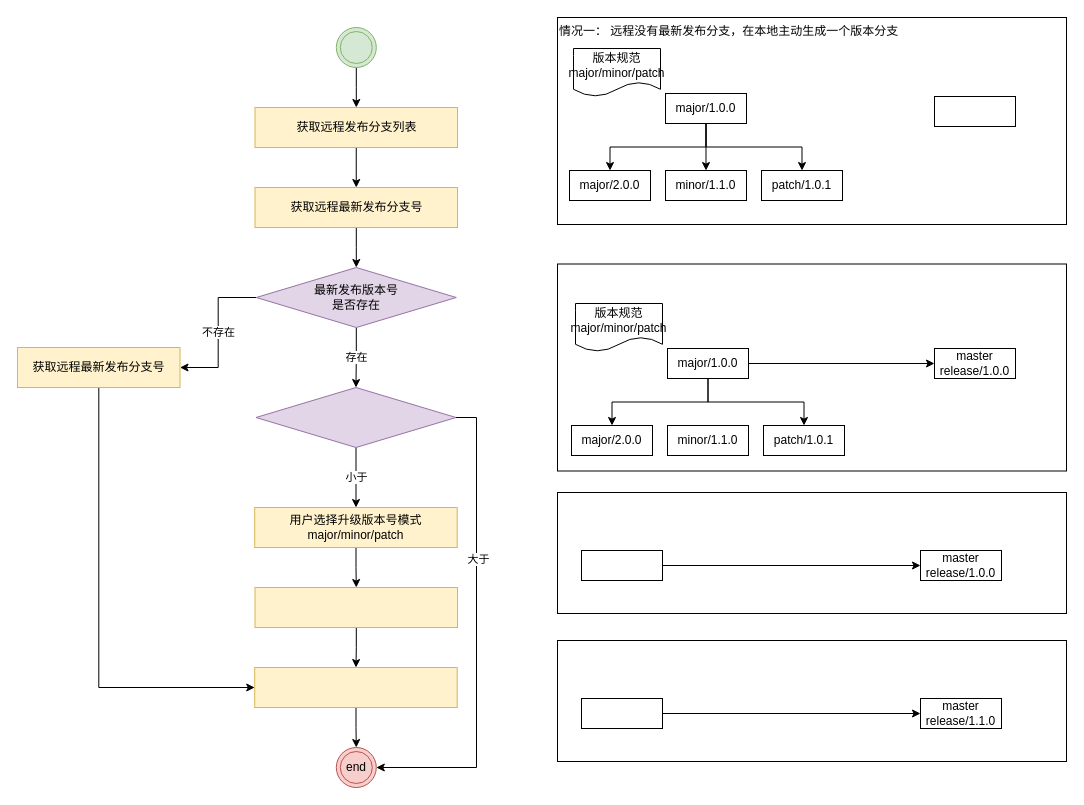
This 1084x805 diagram has some shape labels left out. Here are the shapes that lost their labels. From the top down, the box of each, then its label:
(335, 26, 376, 68): Start
(934, 96, 1016, 126): master
(556, 263, 1066, 471): 情况二： 远程存在最新的发布分支 （提供选择major/minor/patch）
(255, 386, 456, 448): 本地分支是否大于远程 分支版本号
(580, 550, 662, 580): dev/1.1.0
(556, 492, 1066, 614): 情况三： 本地分支大于远程分支
(254, 586, 458, 628): 获取升级后的 本地开发分支号
(254, 666, 457, 708): 获取升级后的版本号写入package.json
(556, 640, 1066, 762): 情况四： 本地分支小于远程分支 （进行分支升级）
(580, 698, 662, 728): dev/1.0.0
